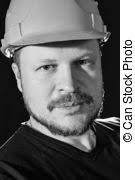helmet: (3, 1, 113, 56)
person with partial safety: (4, 3, 118, 179)
